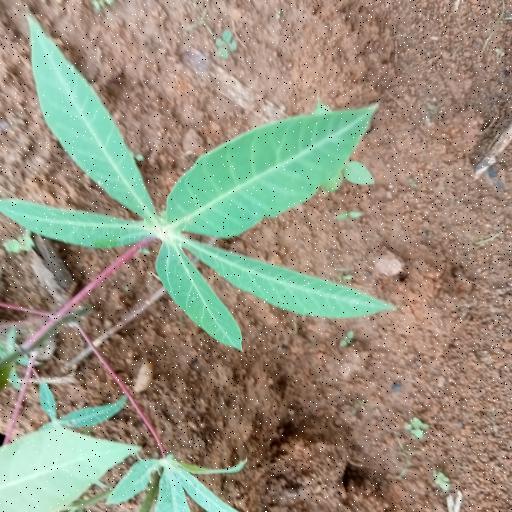Cassava_Mosaic: (6, 26, 390, 343)
